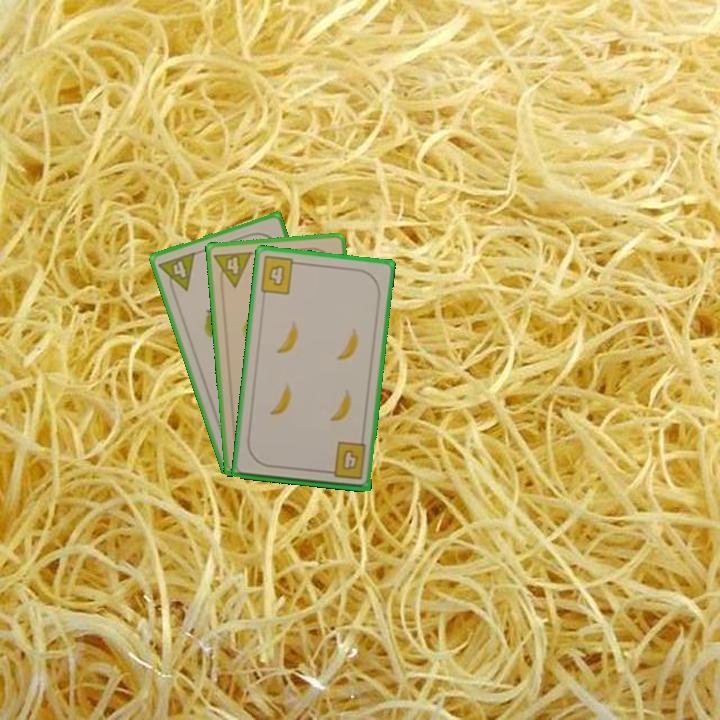4b: (322, 438, 368, 483), (256, 253, 303, 297)
4p: (155, 248, 198, 298), (211, 248, 255, 291)
